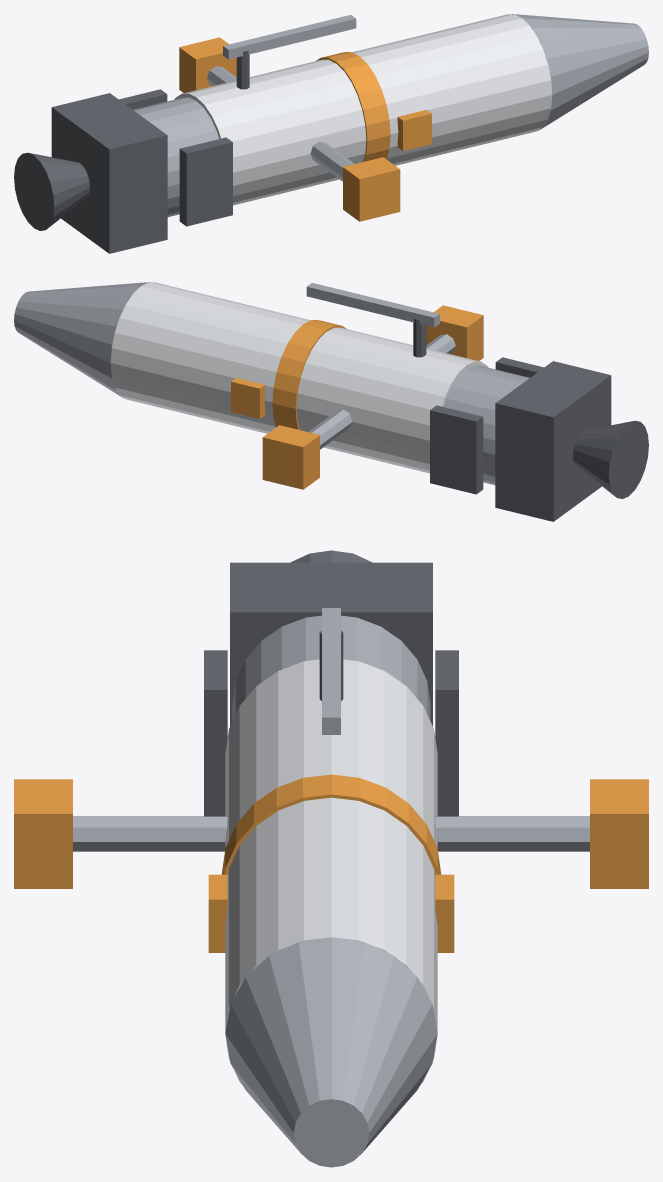
The model's file is canopus.glb.
3 renders of one model, top to bottom at view 1: azimuth 30°, elevation 25°; view 2: azimuth 150°, elevation 25°; view 3: azimuth 270°, elevation 25°, orthographic. The views are drawn at different scales.
Parts seen in each view (by area): view 1: canopus_fwd_hull, canopus_mid_hull, canopus_engine, canopus_nose, canopus_nozzle, canopus_tow_pad_1, canopus_aft_hull, canopus_claw_1, canopus_collar, canopus_claw_0, canopus_crane_boom, canopus_worklight_1 (+4 smaller); view 2: canopus_fwd_hull, canopus_mid_hull, canopus_engine, canopus_nose, canopus_nozzle, canopus_tow_pad_0, canopus_aft_hull, canopus_claw_0, canopus_collar, canopus_claw_1, canopus_crane_boom, canopus_worklight_0 (+4 smaller); view 3: canopus_nose, canopus_fwd_hull, canopus_mid_hull, canopus_engine, canopus_aft_hull, canopus_claw_0, canopus_claw_1, canopus_arm_0, canopus_arm_1, canopus_collar, canopus_tow_pad_0, canopus_tow_pad_1 (+3 smaller).
Boxes of the visible parts, box(x1,y1,x2,y2) form: canopus_fwd_hull: box(352, 14, 552, 165); canopus_mid_hull: box(174, 59, 366, 205); canopus_engine: box(51, 93, 167, 253); canopus_nose: box(512, 14, 648, 130); canopus_nozzle: box(14, 152, 89, 230); canopus_tow_pad_1: box(179, 137, 232, 226); canopus_aft_hull: box(133, 97, 219, 216); canopus_claw_1: box(343, 157, 400, 221); canopus_collar: box(316, 52, 390, 161); canopus_claw_0: box(179, 37, 236, 92); canopus_crane_boom: box(223, 15, 356, 59); canopus_worklight_1: box(397, 110, 431, 150); canopus_fwd_hull: box(110, 282, 310, 433); canopus_mid_hull: box(296, 327, 488, 473); canopus_engine: box(495, 361, 611, 521); canopus_nose: box(14, 282, 150, 398); canopus_nozzle: box(573, 420, 648, 498); canopus_tow_pad_0: box(430, 405, 483, 494); canopus_aft_hull: box(443, 365, 529, 484); canopus_claw_0: box(262, 425, 319, 489); canopus_collar: box(272, 320, 346, 429); canopus_claw_1: box(426, 305, 483, 360); canopus_crane_boom: box(306, 283, 439, 327); canopus_worklight_0: box(231, 378, 265, 418); canopus_nose: box(225, 937, 437, 1167); canopus_fwd_hull: box(225, 797, 437, 1085); canopus_mid_hull: box(225, 659, 437, 847); canopus_engine: box(230, 562, 432, 726); canopus_aft_hull: box(232, 615, 430, 720); canopus_claw_0: box(590, 779, 648, 888); canopus_claw_1: box(14, 779, 72, 888); canopus_arm_0: box(435, 816, 589, 851); canopus_arm_1: box(73, 816, 227, 851); canopus_collar: box(221, 774, 441, 875); canopus_tow_pad_0: box(435, 650, 458, 816); canopus_tow_pad_1: box(204, 650, 227, 816).
Size of the model in its own units: 52 by 12.65 by 26.9.
